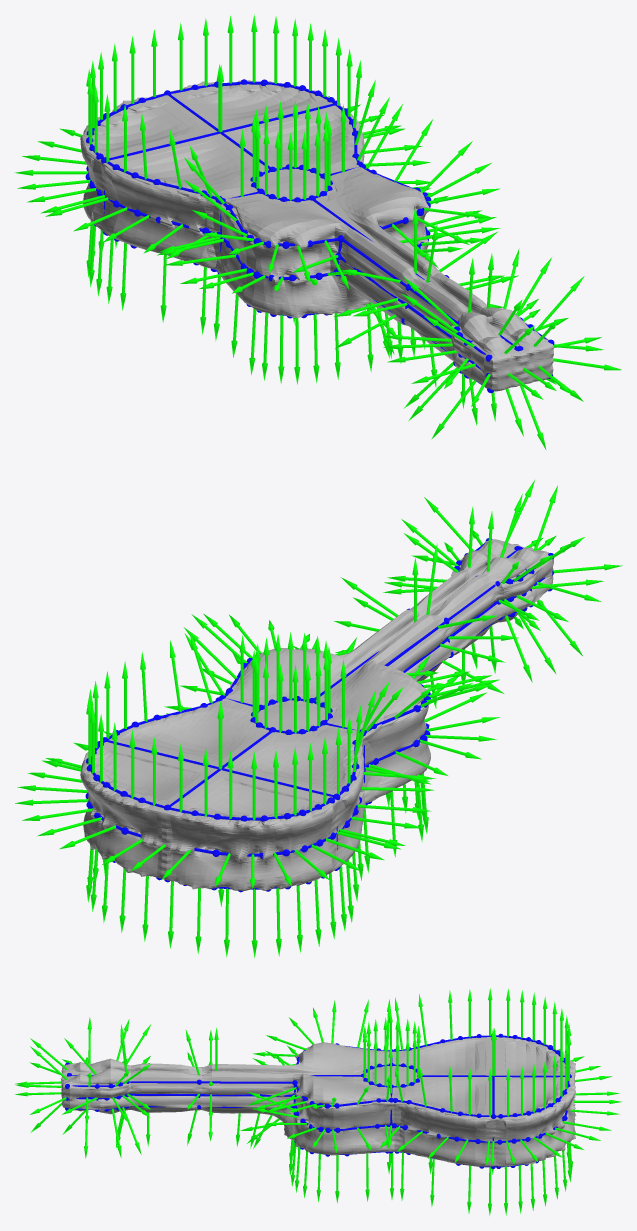
Rendered from t2f_guitar.gltf.
The picture shows the model from 3 angles, top to bottom: view 1: azimuth 30°, elevation 25°; view 2: azimuth 150°, elevation 25°; view 3: azimuth 270°, elevation 25°; orthographic projection. The views are drawn at different scales.
Size of the model in its own units: 0.5511 by 0.3037 by 1.13.
